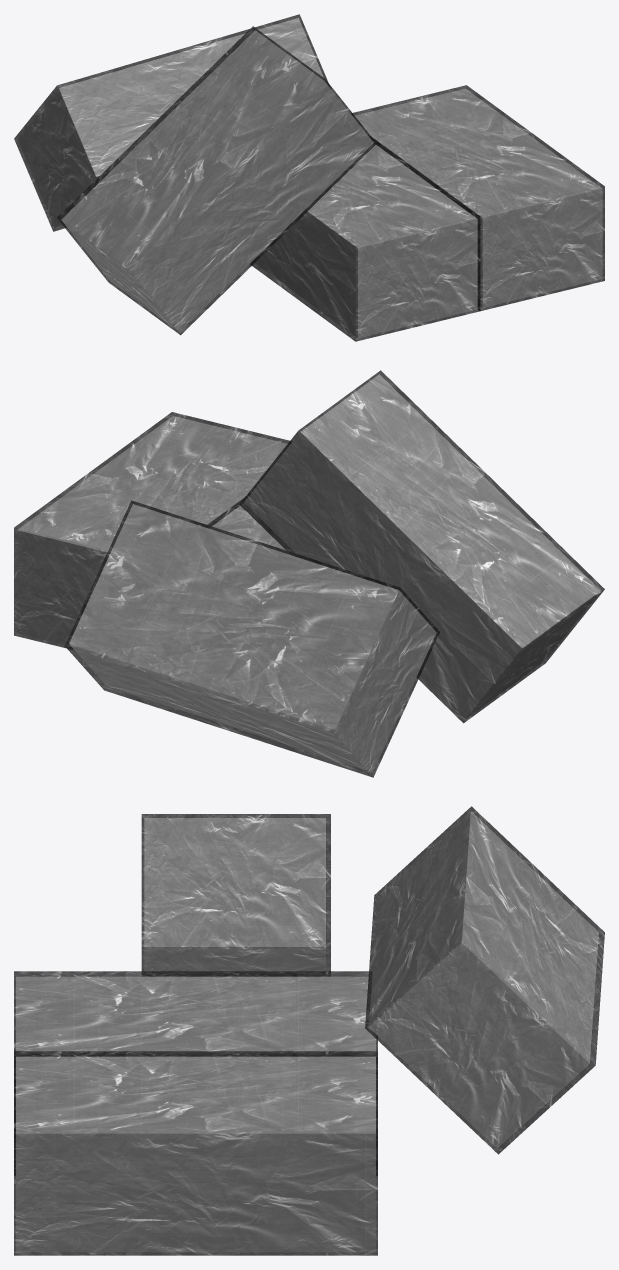
The model's file is PlusieursCocaine.fbx.
3 renders of one model, top to bottom at view 1: azimuth 30°, elevation 25°; view 2: azimuth 150°, elevation 25°; view 3: azimuth 270°, elevation 25°, orthographic. The views are drawn at different scales.
Visible parts, largest first — view 1: Box007, Box008, Box003, Box005, Box004, Box006, Box009, Box010; view 2: Box009, Box010, Box007, Box008, Box003, Box004, Box005, Box006; view 3: Box003, Box004, Box009, Box010, Box007, Box005, Box008, Box006.
Boxes of the visible parts, box(x1,y1,x2,y2) form: Box007: box(57, 26, 376, 335); Box008: box(61, 30, 373, 331); Box003: box(352, 85, 604, 311); Box005: box(251, 138, 480, 341); Box004: box(355, 88, 602, 307); Box006: box(255, 145, 477, 338); Box009: box(14, 14, 328, 231); Box010: box(17, 18, 323, 227); Box009: box(65, 500, 439, 777); Box010: box(69, 504, 436, 772); Box007: box(239, 370, 604, 723); Box008: box(244, 374, 600, 718); Box003: box(14, 412, 290, 648); Box004: box(17, 416, 287, 644); Box005: box(208, 498, 285, 550); Box006: box(212, 506, 285, 550); Box003: box(14, 1051, 377, 1255); Box004: box(16, 1056, 375, 1252); Box009: box(365, 806, 604, 1154); Box010: box(369, 811, 598, 1148); Box007: box(141, 814, 330, 975); Box005: box(14, 971, 377, 1175); Box008: box(144, 818, 325, 971); Box006: box(16, 976, 375, 1051).
Bounding box in the file's own units: 34.29 × 17.09 × 31.21.
2 materials, 1 textured.
